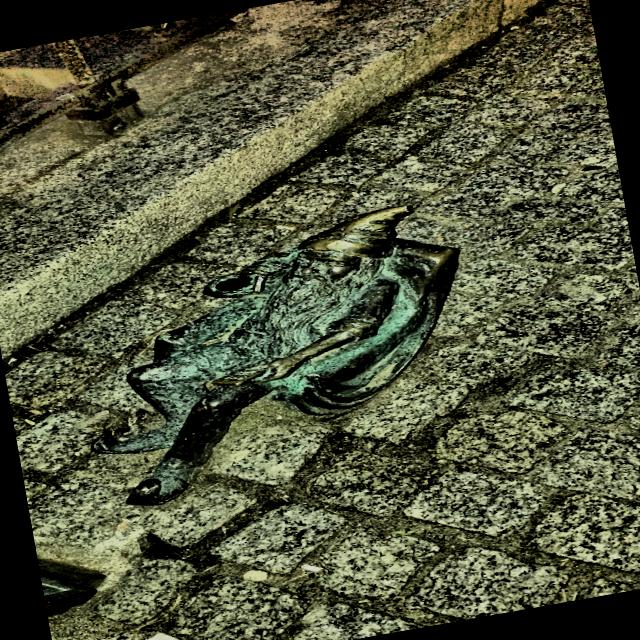Dialogomir: (92, 206, 460, 506), (37, 557, 105, 615)
